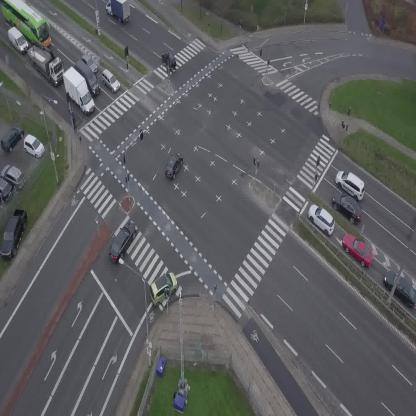bicycle: (72, 114, 79, 132)
car: (102, 218, 141, 266), (337, 228, 379, 271), (142, 268, 184, 309), (326, 187, 368, 226), (330, 166, 371, 202), (303, 201, 341, 238), (161, 149, 187, 182), (97, 67, 124, 94), (158, 48, 180, 72), (79, 51, 101, 74)
lorry: (17, 34, 73, 88), (58, 63, 97, 118), (72, 57, 104, 98), (3, 25, 33, 55), (106, 0, 130, 23)
